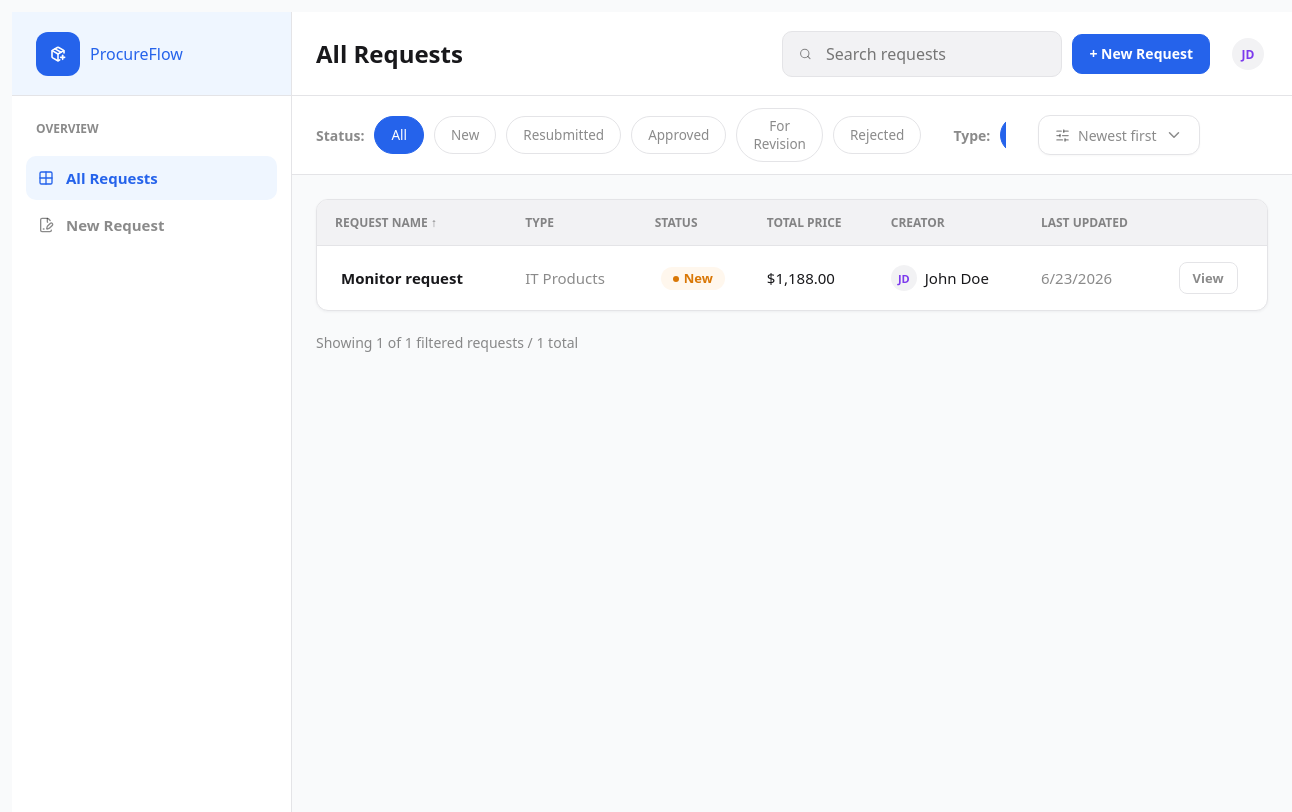
Test: App › creates a request from the app shell
The image size is (1292, 812).
Expected: the heading "All Requests" is shown, x1=316 y1=37 x2=463 y2=70
Click the button "+ New Request" at (1141, 54), box x1=1072 y1=34 x2=1210 y2=74
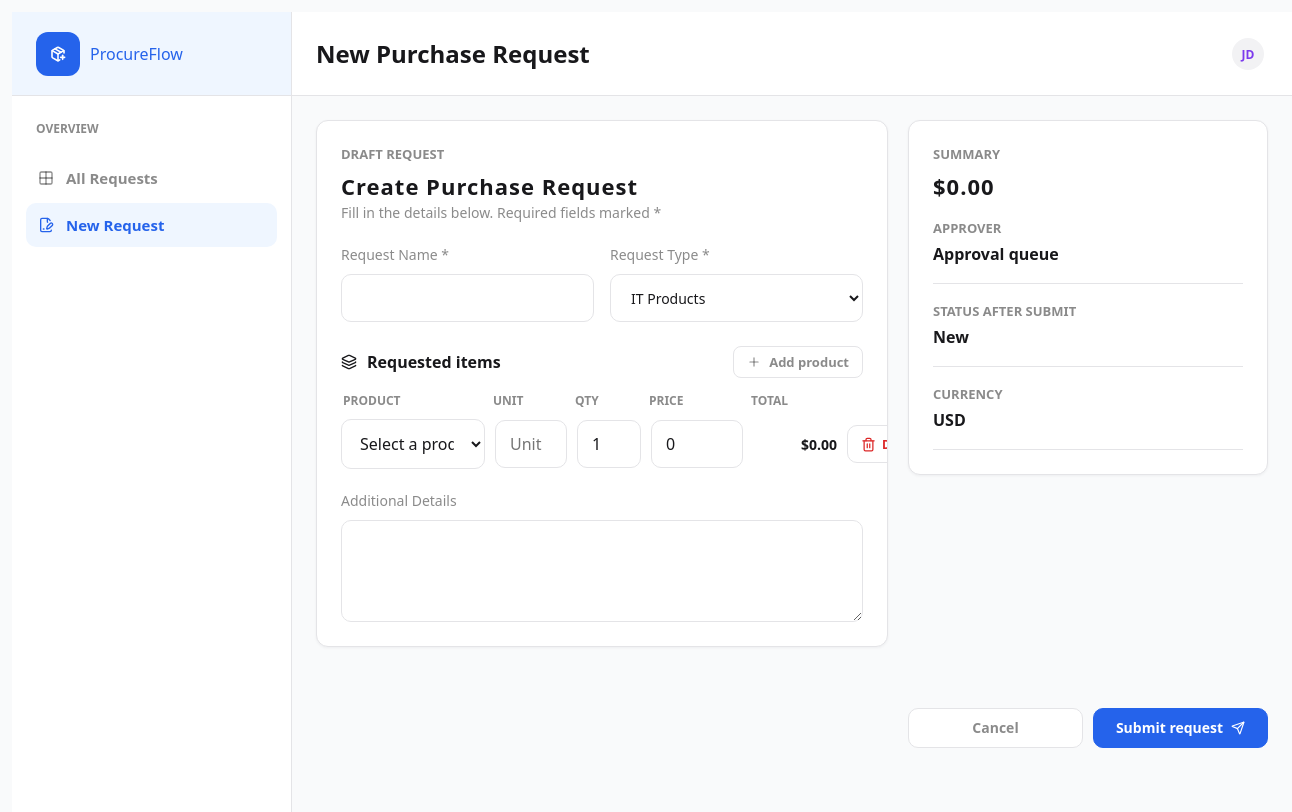
Result: the heading "Create Purchase Request" is shown at x1=341 y1=171 x2=661 y2=201
Type "Created monitor request" into the 1st field at (468, 298), box x1=341 y1=274 x2=594 y2=322
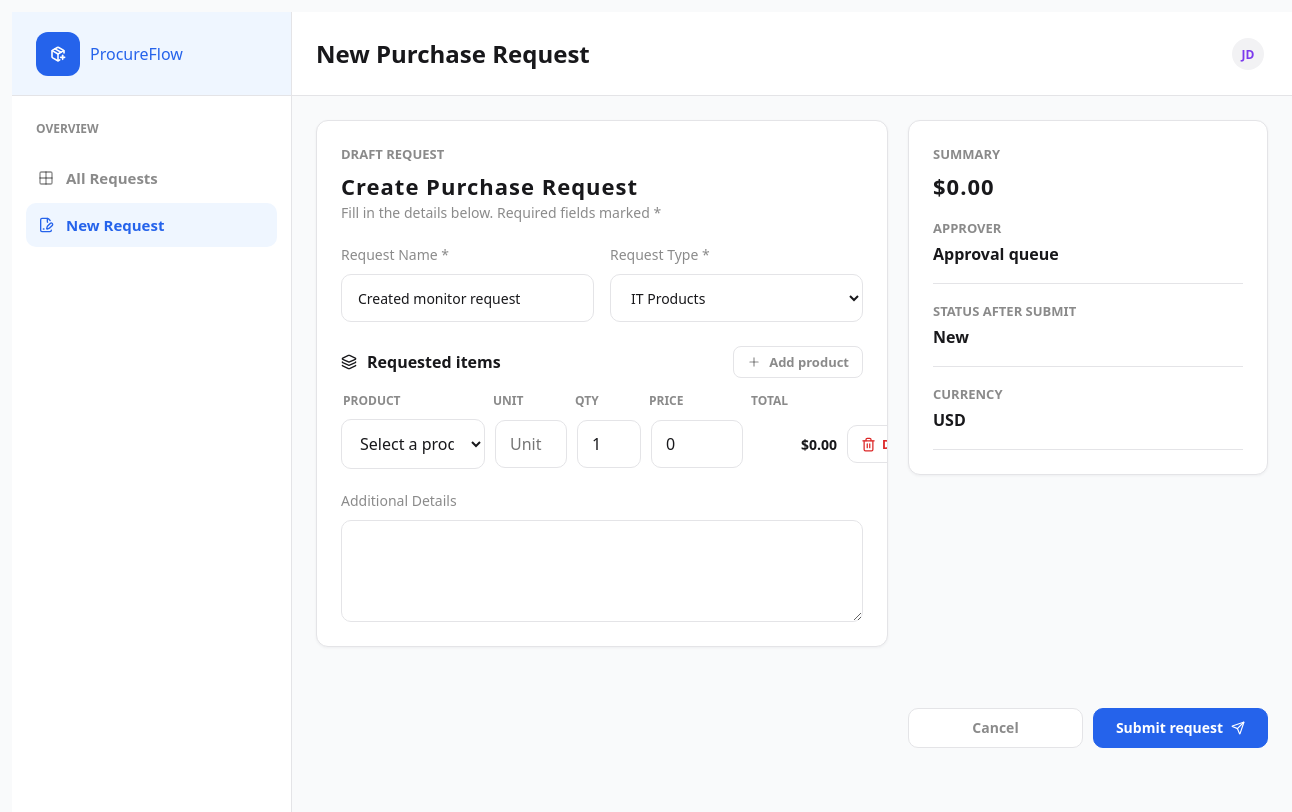
Type "Need another display" into the text box at (602, 571), box x1=341 y1=520 x2=863 y2=622
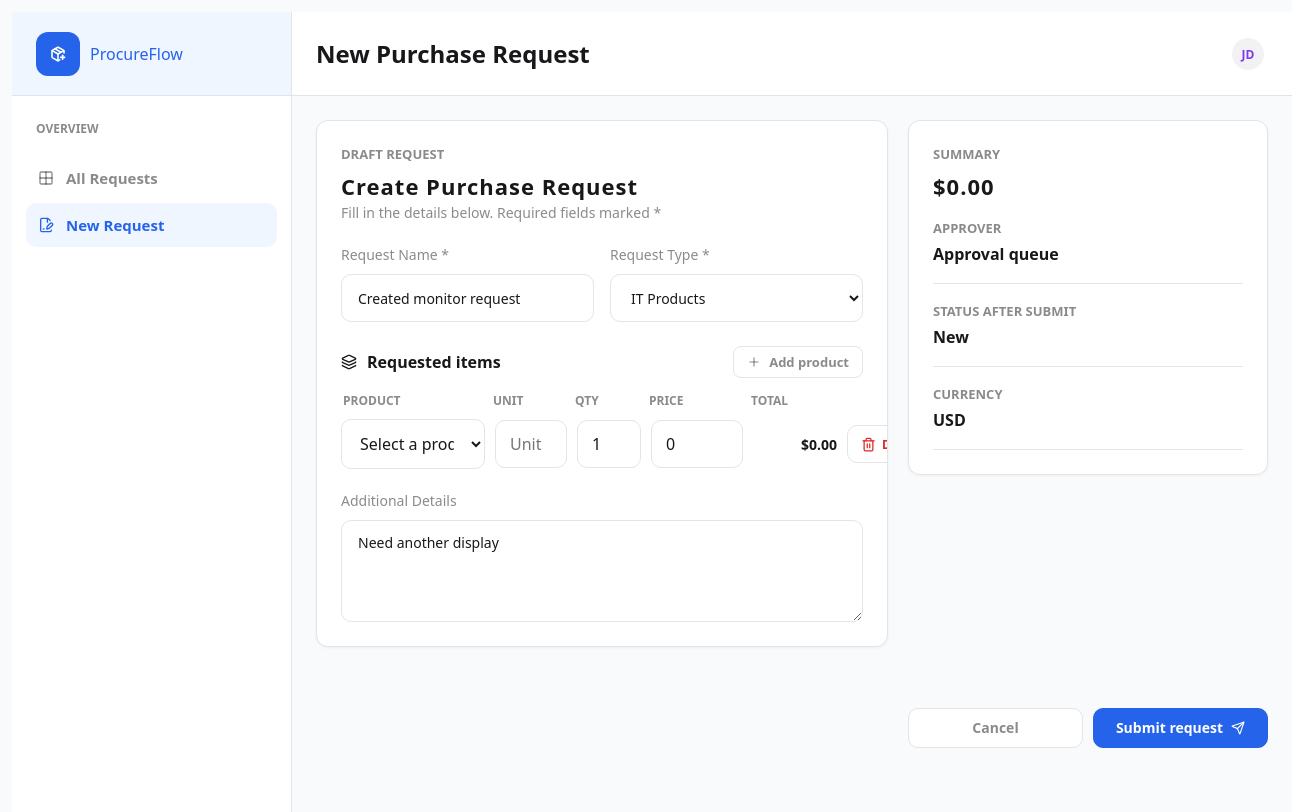
Select "Monitor" in the dropdown named "Product" at (413, 444), box x1=341 y1=419 x2=485 y2=469
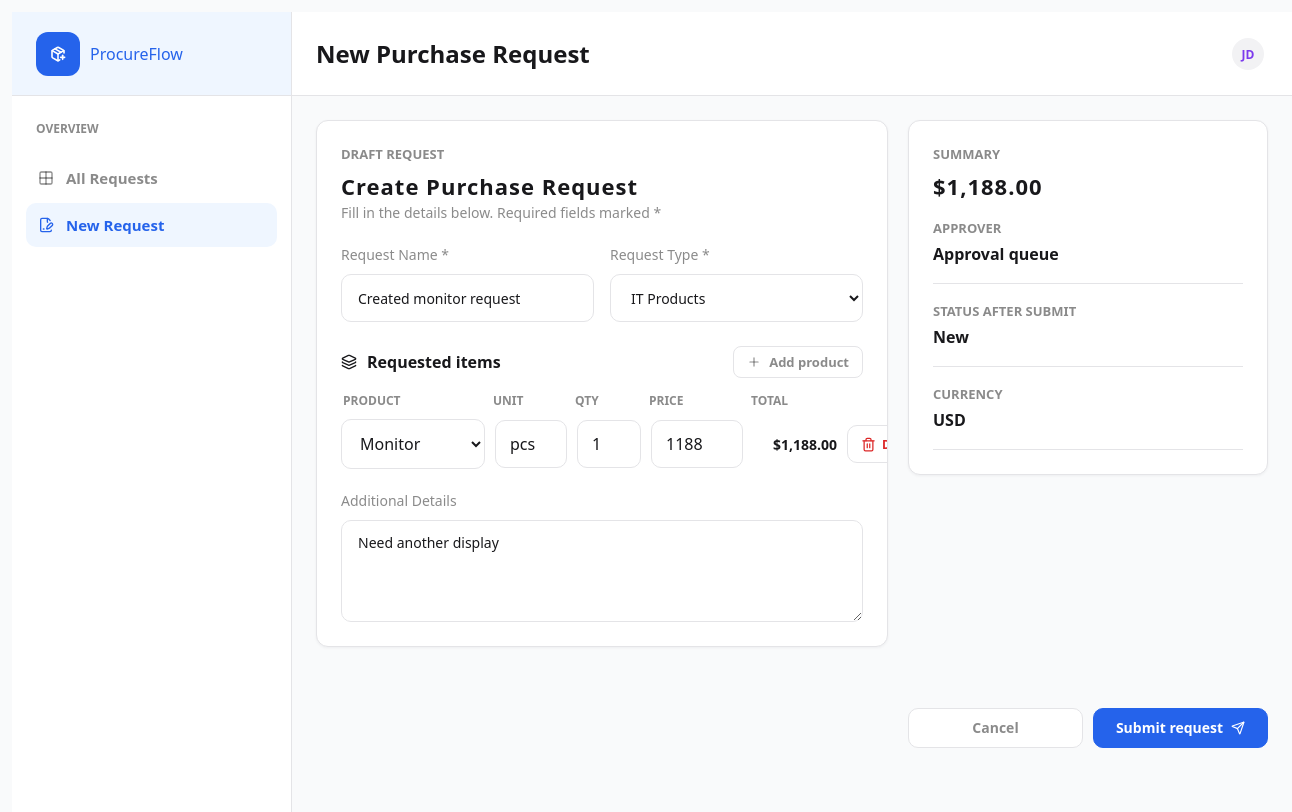
Click the button "Submit request" at (1180, 728), box x1=1093 y1=708 x2=1268 y2=748
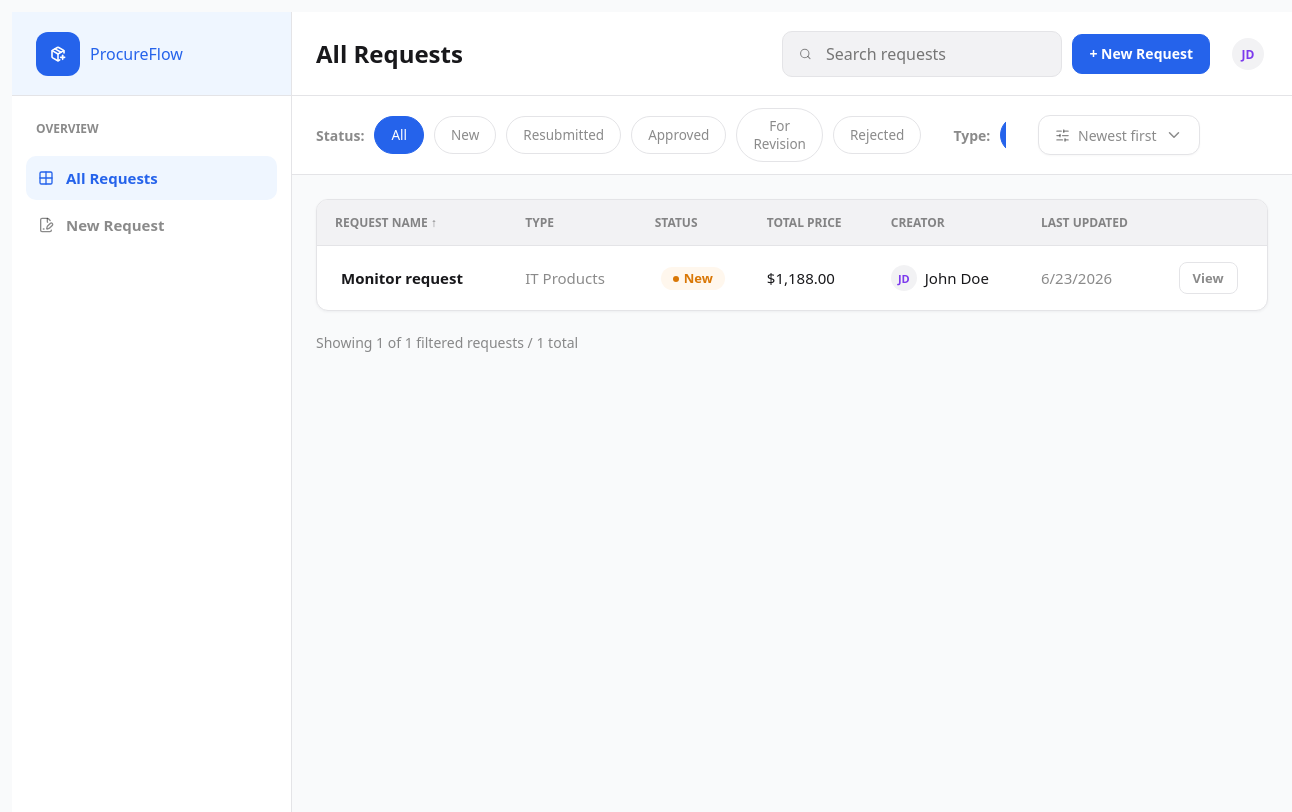
Result: the heading "All Requests" is shown at x1=316 y1=37 x2=463 y2=70
